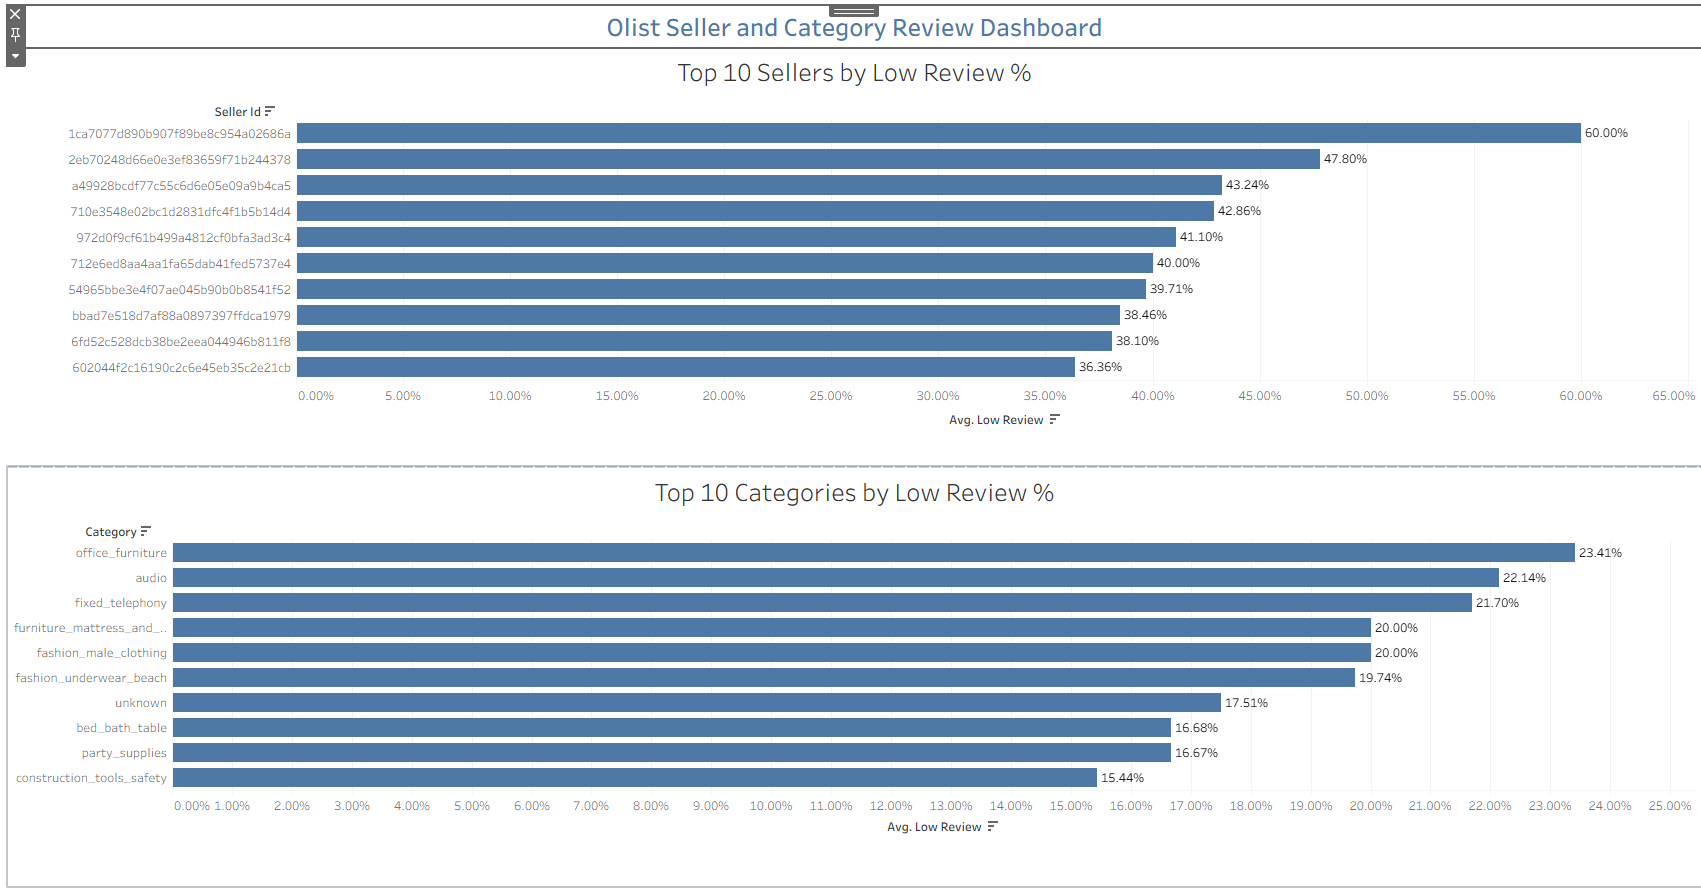

The dashboard page shown, as its layout file describes it:
{"tool":"tableau","page":{"name":"Olist Seller and Category Review Dashboard","canvas":[1000,1000],"units":"permille","ordinal":1},"visuals":[{"type":"title","box":[4.7,8.9,990.6,45.8]},{"type":"worksheet","title":"Top 10 Sellers by Low Review %","mark":"Automatic","rows":["seller_id"],"cols":["low_review"],"box":[4.7,54.7,990.6,468.2]},{"type":"worksheet","title":"Top 10 Categories by Low Review %","mark":"Automatic","rows":["category"],"cols":["low_review"],"box":[4.7,522.9,990.6,468.2]}]}

Visuals, with their boxes on the dashboard's canvas, which has no fixed pixel size, in thousandths of its width and height (x1, y1, x2, y2). These are canvas units, not pixel positions in the 1701x891 screenshot, which may show the page scaled, cropped or inside an application window:
title: <region>5, 9, 995, 55</region>
"Top 10 Sellers by Low Review %" worksheet: <region>5, 55, 995, 523</region>
"Top 10 Categories by Low Review %" worksheet: <region>5, 523, 995, 991</region>
